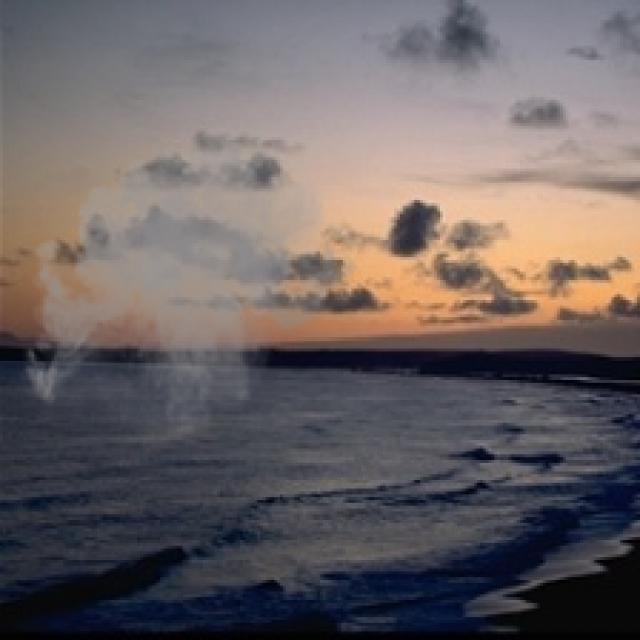smoke: (14, 114, 360, 460)
